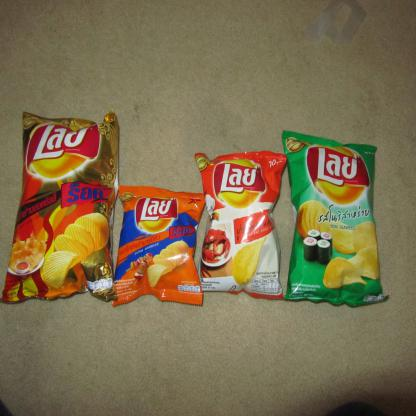potatochip: (0, 105, 123, 309), (275, 125, 393, 311), (192, 145, 292, 305), (108, 180, 209, 310)
